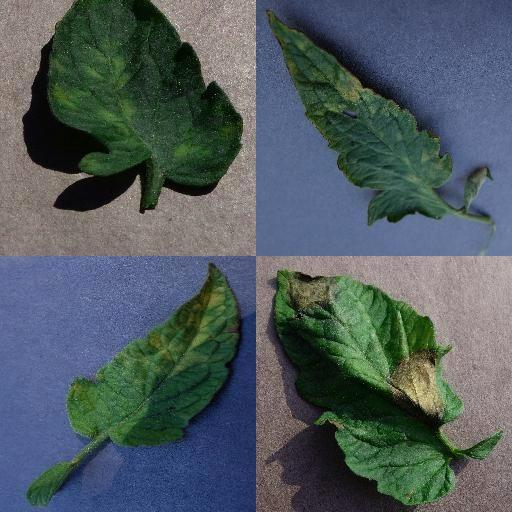Late Blight: (272, 268, 464, 506)
Leaf Mold: (266, 7, 454, 225), (47, 0, 243, 183), (69, 261, 241, 447)
